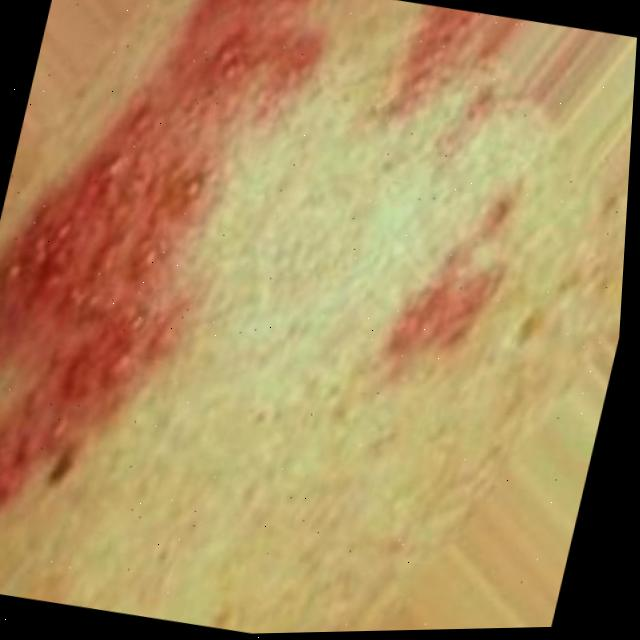Shingles: (0, 0, 297, 615), (333, 0, 572, 367)
